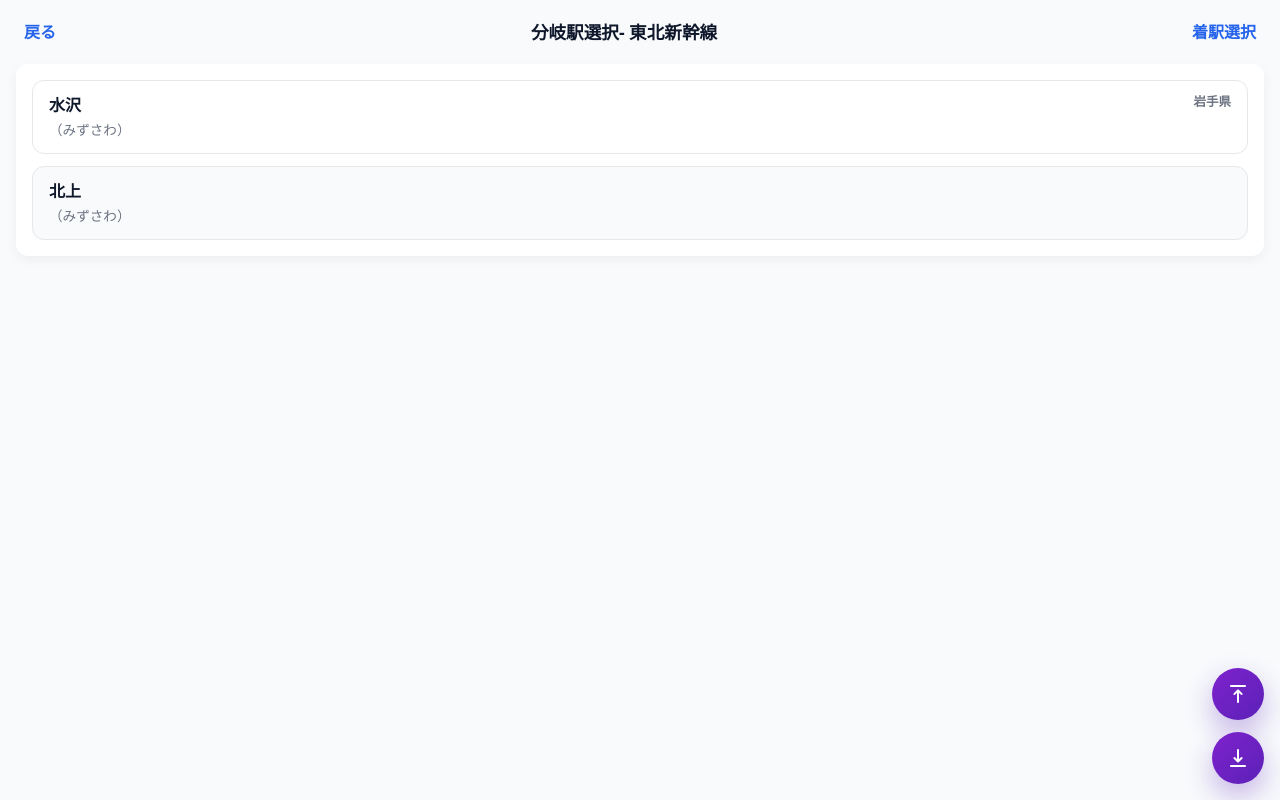
Test: /route-station-select/+page.svelte › shows duplicate route message when addRoute returns duplicate error
Click the button with test id "station-option-水沢": (65, 105) [32,80,1248,154]
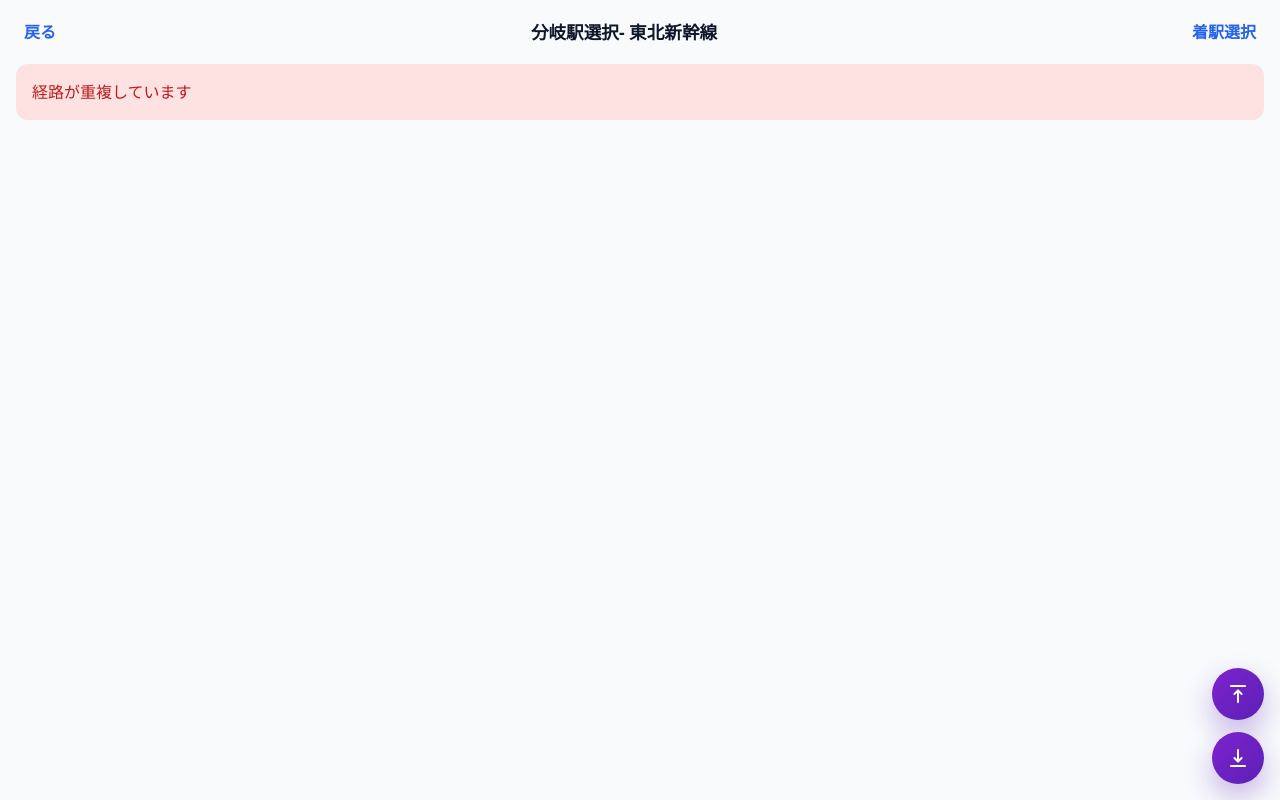
Expected: the text "経路が重複しています" is shown, [32,81,192,103]
